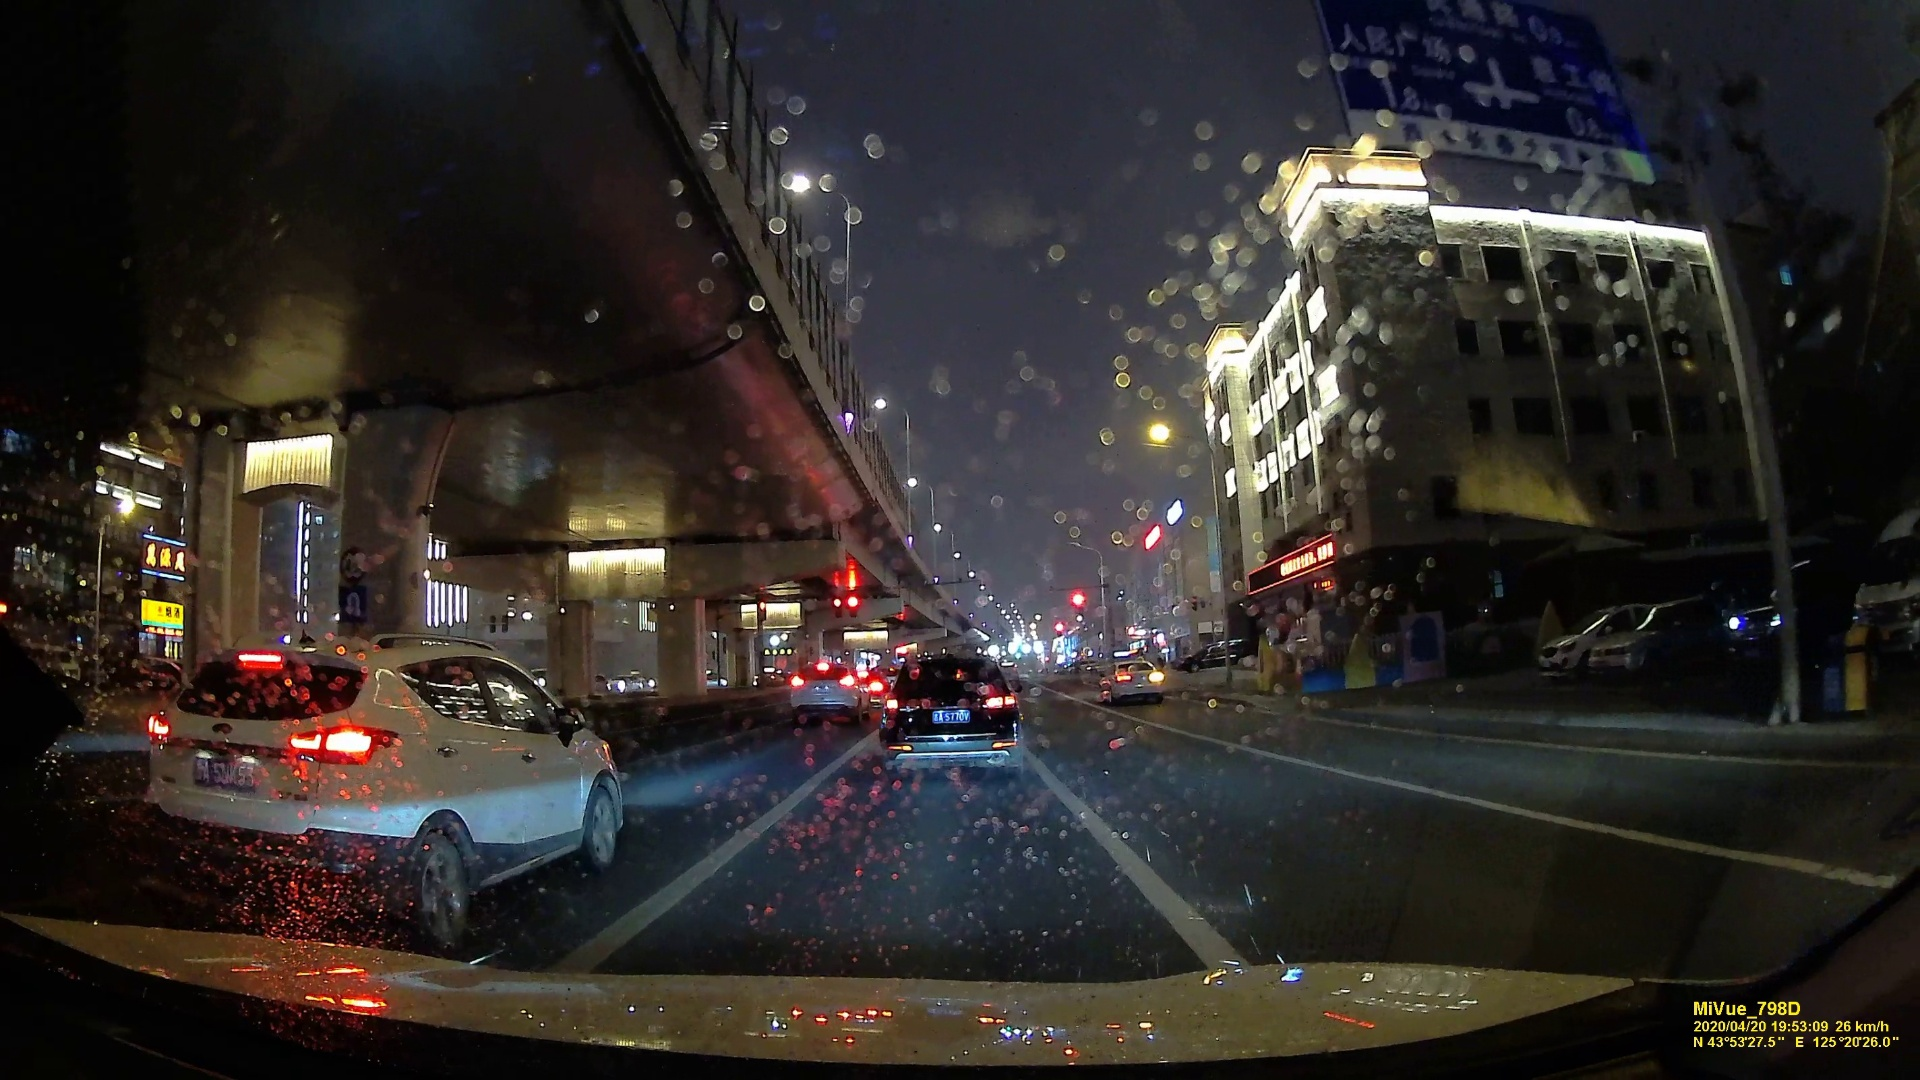traffic_sign: (338, 585, 367, 621), (335, 547, 367, 578), (1071, 591, 1085, 613), (831, 597, 844, 618), (847, 595, 858, 615)
vehicle: (138, 638, 624, 936), (878, 657, 1023, 774), (789, 662, 866, 724), (1102, 657, 1167, 704)
